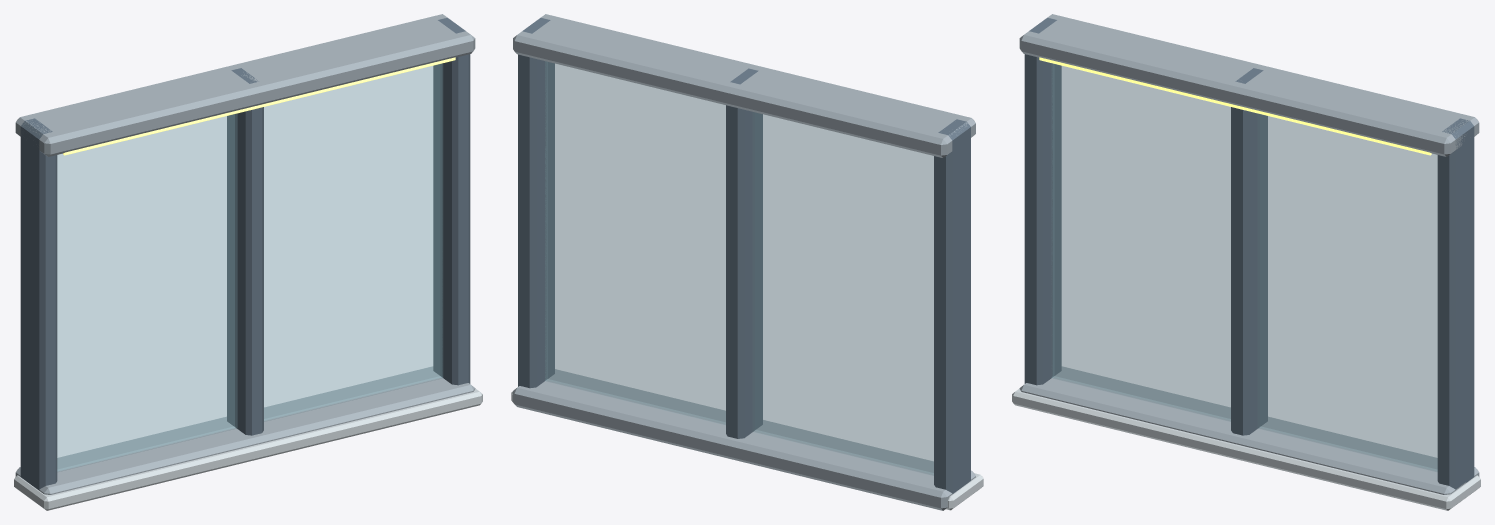
File: architecture_07.glb
3 renders of one model, left to right at view 1: azimuth 30°, elevation 25°; view 2: azimuth 150°, elevation 25°; view 3: azimuth 330°, elevation 25°, orthographic.
Parts seen in each view (by area): view 1: WindowGlass, WindowVertical (×3), WindowHorizontal (×2), WindowSill, WindowLED; view 2: WindowGlass, WindowHorizontal (×2), WindowVertical (×3), WindowSill; view 3: WindowGlass, WindowVertical (×3), WindowHorizontal (×2), WindowSill, WindowLED.
Boxes of the visible parts, bbox=[...] form: WindowGlass: bbox=[57, 63, 442, 471]; WindowVertical (×3): bbox=[20, 17, 470, 490]; WindowHorizontal (×2): bbox=[15, 14, 475, 494]; WindowSill: bbox=[14, 388, 482, 510]; WindowLED: bbox=[63, 57, 455, 155]; WindowGlass: bbox=[545, 61, 933, 475]; WindowHorizontal (×2): bbox=[513, 14, 975, 510]; WindowVertical (×3): bbox=[518, 17, 970, 494]; WindowSill: bbox=[511, 391, 983, 510]; WindowGlass: bbox=[1051, 63, 1437, 471]; WindowVertical (×3): bbox=[1024, 17, 1474, 489]; WindowHorizontal (×2): bbox=[1019, 14, 1479, 494]; WindowSill: bbox=[1012, 388, 1480, 510]; WindowLED: bbox=[1039, 57, 1431, 155].
Size of the model in its own units: 1.68 by 1.35 by 0.24.
